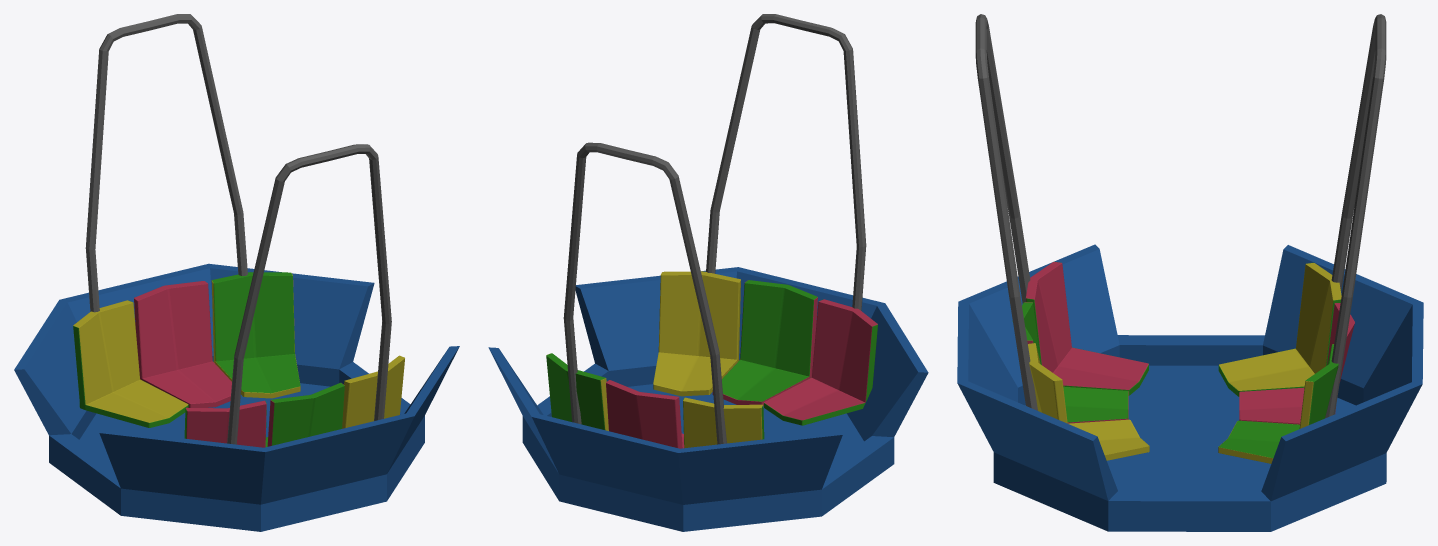
Rendered from Cesta-Roda-Gigante.fbx.
3 views of the same model, side by side, from view 1: azimuth 30°, elevation 25°; view 2: azimuth 150°, elevation 25°; view 3: azimuth 270°, elevation 25° (orthographic). The views are drawn at different scales.
Visible parts, largest first — view 1: RetopoFlow.012, Cube.052, Cube.051, Cylinder.078, Cylinder.077; view 2: RetopoFlow.012, Cube.051, Cube.052, Cylinder.077, Cylinder.078; view 3: RetopoFlow.012, Cube.052, Cube.051, Cylinder.078, Cylinder.077.
Boxes of the visible parts, box(x1,y1,x2,y2) form: RetopoFlow.012: box(14, 263, 459, 531); Cube.052: box(73, 272, 300, 427); Cube.051: box(184, 355, 404, 447); Cylinder.078: box(227, 144, 391, 444); Cylinder.077: box(85, 14, 247, 312); RetopoFlow.012: box(488, 267, 928, 531); Cube.051: box(653, 271, 877, 425); Cube.052: box(546, 353, 764, 448); Cylinder.077: box(563, 142, 726, 444); Cylinder.078: box(706, 14, 866, 310); RetopoFlow.012: box(957, 244, 1423, 531); Cube.052: box(1218, 262, 1354, 463); Cube.051: box(1012, 261, 1149, 460); Cylinder.078: box(975, 14, 1037, 410); Cylinder.077: box(1325, 14, 1386, 418).
Bounding box in the file's own units: 467 × 467 × 458.
